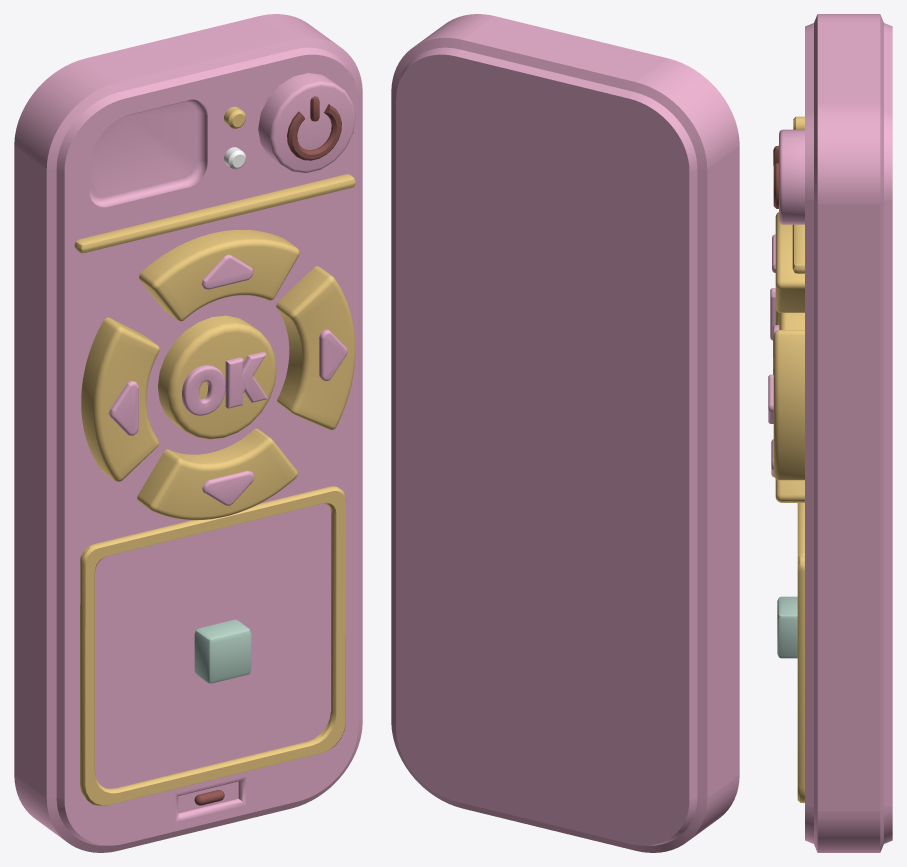
The model's file is 测试的遥控器.fbx.
The picture shows the model from 3 angles, left to right: view 1: azimuth 30°, elevation 25°; view 2: azimuth 150°, elevation 25°; view 3: azimuth 270°, elevation 25°; orthographic projection. The views are drawn at different scales.
Parts seen in each view (by area): view 1: 遥控器; view 2: 遥控器; view 3: 遥控器.
Part boxes in pixels (box(x1,y1,x2,y2)): 遥控器: box(14, 14, 362, 852); 遥控器: box(391, 14, 739, 852); 遥控器: box(768, 14, 892, 852).
Bounding box in the file's own units: 56.16 × 131 × 19.88.
